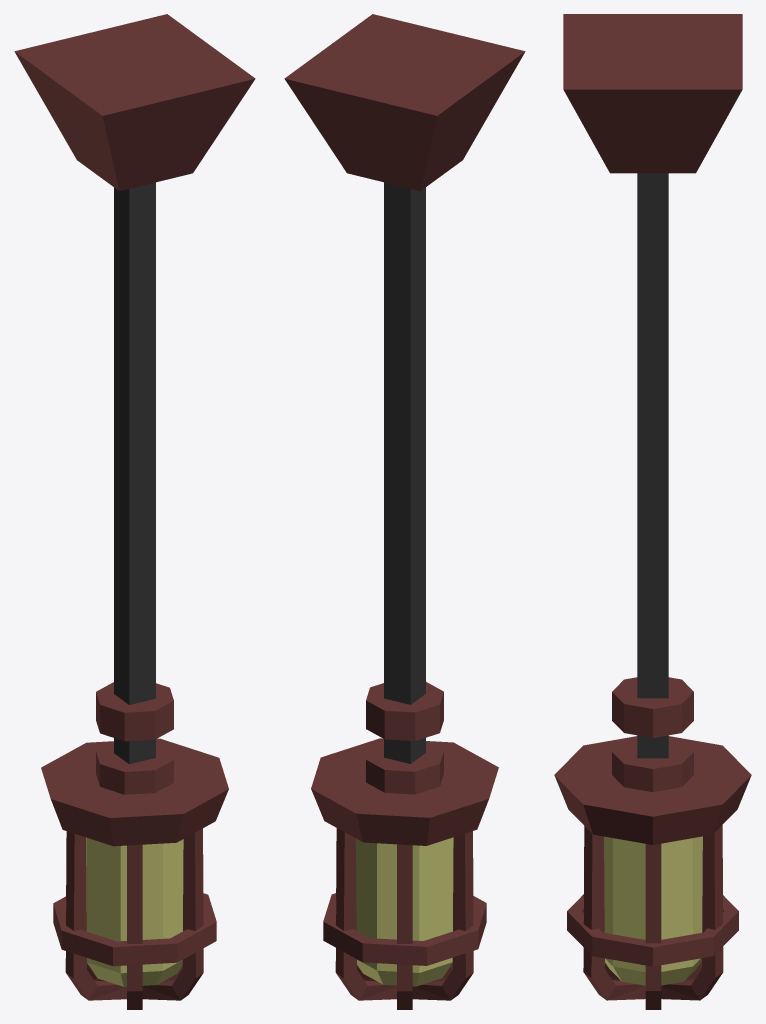
File: DarkGreyMetalMechMediumHangingCeilingLight1.fbx
The picture shows the model from 3 angles, left to right: view 1: azimuth 30°, elevation 25°; view 2: azimuth 150°, elevation 25°; view 3: azimuth 270°, elevation 25°; orthographic projection.
Visible parts, largest first — view 1: DarkGreyMetalMechMediumHangingCeilingLight1, DarkGreyMetalMechMediumHangingCielingLight; view 2: DarkGreyMetalMechMediumHangingCeilingLight1, DarkGreyMetalMechMediumHangingCielingLight; view 3: DarkGreyMetalMechMediumHangingCeilingLight1, DarkGreyMetalMechMediumHangingCielingLight.
Part boxes in pixels (x1,y1,x2,y2): DarkGreyMetalMechMediumHangingCeilingLight1: [41, 182, 228, 1009]; DarkGreyMetalMechMediumHangingCielingLight: [14, 14, 255, 191]; DarkGreyMetalMechMediumHangingCeilingLight1: [311, 182, 498, 1009]; DarkGreyMetalMechMediumHangingCielingLight: [284, 14, 525, 190]; DarkGreyMetalMechMediumHangingCeilingLight1: [554, 173, 751, 1009]; DarkGreyMetalMechMediumHangingCielingLight: [563, 14, 742, 173].
Size of the model in its own units: 97.59 by 517 by 97.59.
